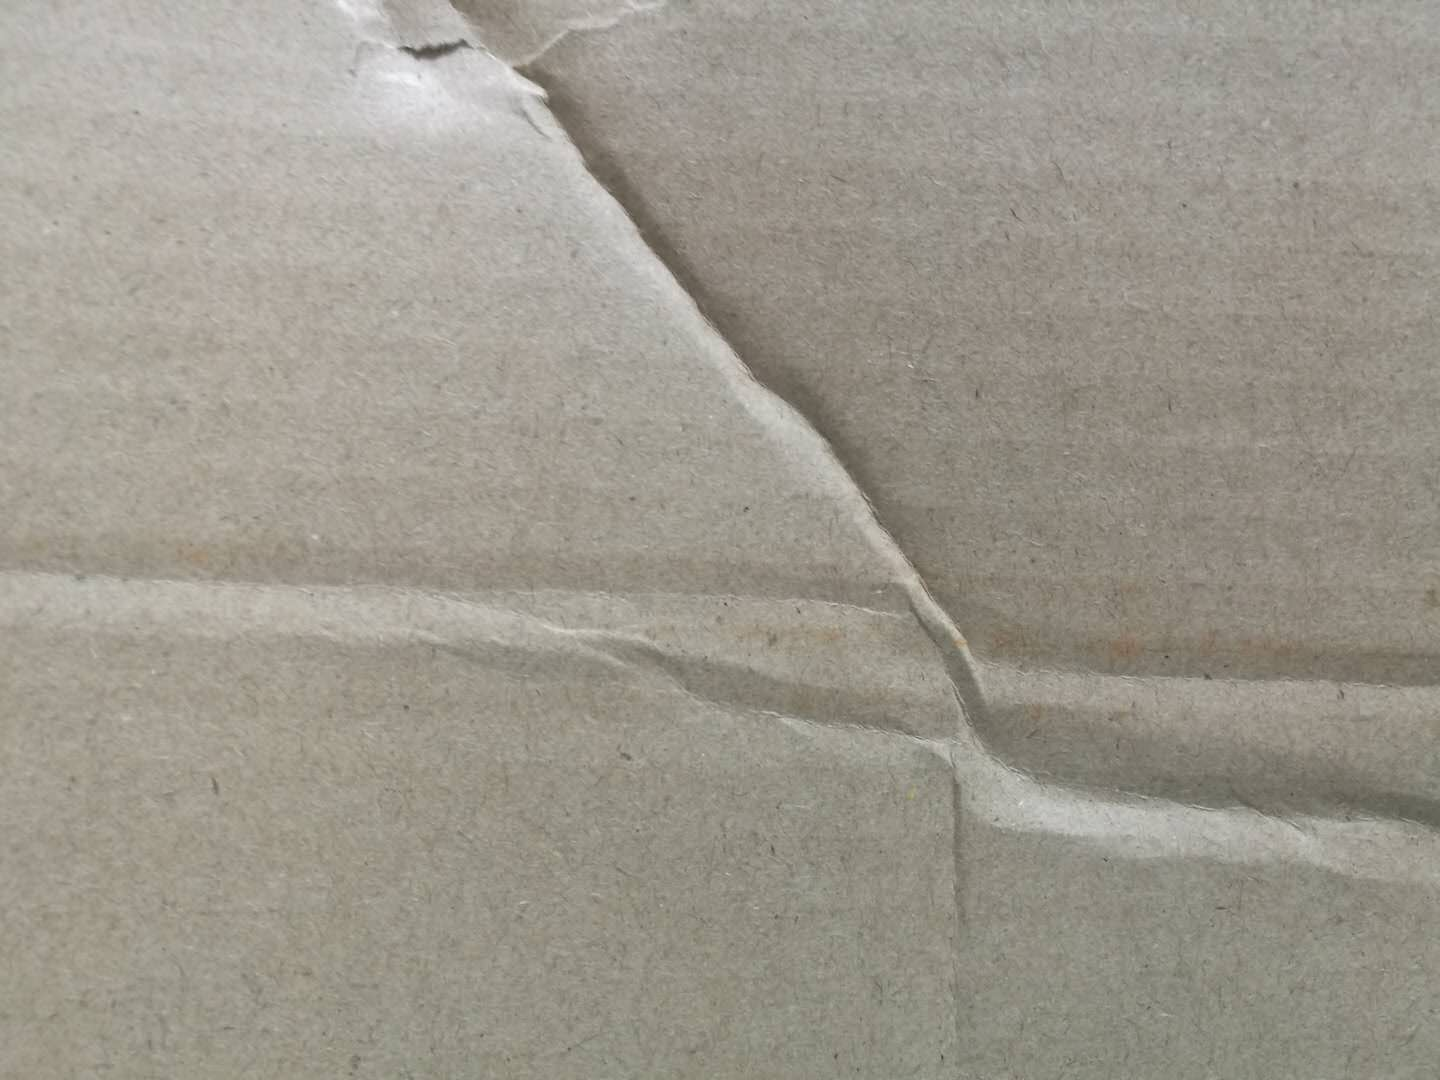defect: (321, 5, 1102, 1080), (2, 486, 1440, 930)
